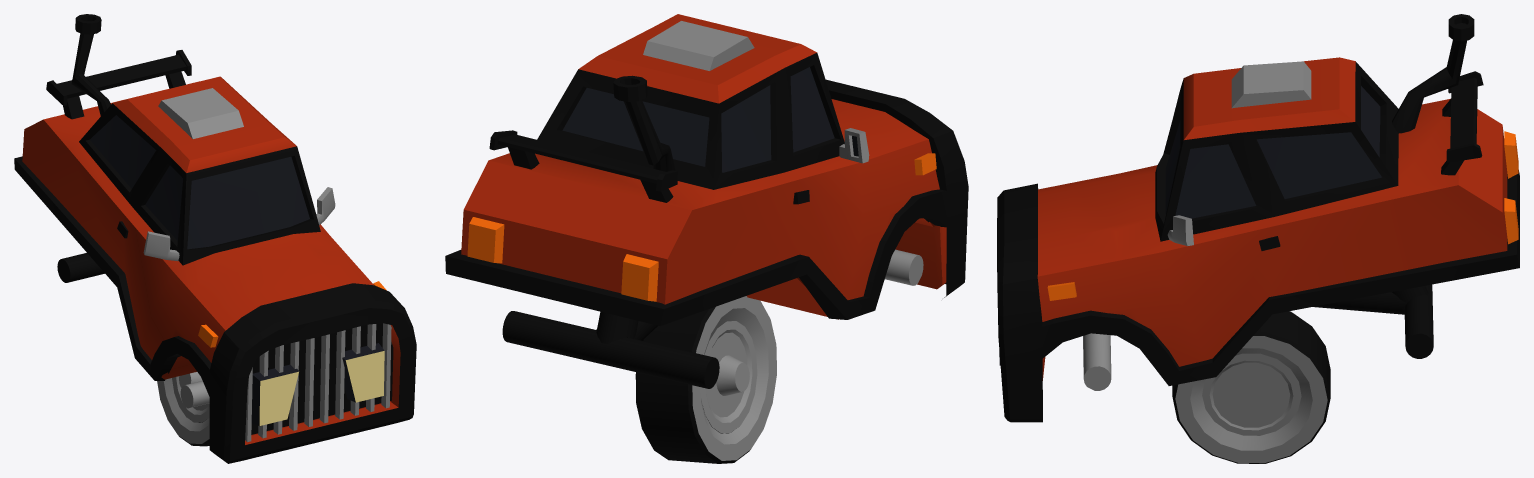
Rendered from SM_Car_03.fbx.
The picture shows the model from 3 angles, left to right: view 1: azimuth 30°, elevation 25°; view 2: azimuth 150°, elevation 25°; view 3: azimuth 270°, elevation 25°; orthographic projection. The views are drawn at different scales.
Parts seen in each view (by area): view 1: SM_Car03_Body, SM_Car03_BackWheel, SM_Car03_FrontWheel; view 2: SM_Car03_Body, SM_Car03_BackWheel, SM_Car03_FrontWheel; view 3: SM_Car03_Body, SM_Car03_BackWheel, SM_Car03_FrontWheel.
Boxes of the visible parts, x1=… form: SM_Car03_Body: x1=14, y1=14, x2=416, y2=463; SM_Car03_BackWheel: x1=157, y1=372, x2=209, y2=446; SM_Car03_FrontWheel: x1=172, y1=376, x2=209, y2=422; SM_Car03_Body: x1=445, y1=14, x2=968, y2=388; SM_Car03_BackWheel: x1=635, y1=296, x2=776, y2=463; SM_Car03_FrontWheel: x1=700, y1=321, x2=757, y2=433; SM_Car03_Body: x1=997, y1=14, x2=1519, y2=422; SM_Car03_BackWheel: x1=1172, y1=311, x2=1330, y2=463; SM_Car03_FrontWheel: x1=1202, y1=353, x2=1301, y2=435.
Bounding box in the file's own units: 106 × 217 × 192.
